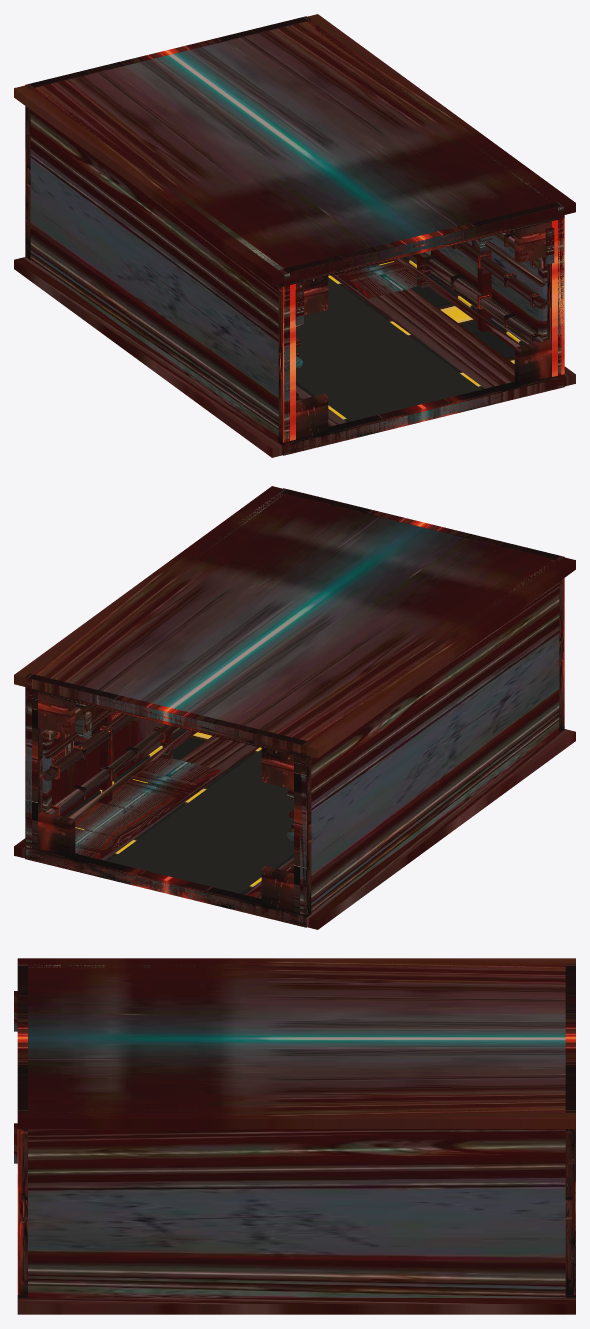
Rendered from hangar_ic_koridor_kara.glb.
3 renders of one model, top to bottom at view 1: azimuth 30°, elevation 25°; view 2: azimuth 150°, elevation 25°; view 3: azimuth 270°, elevation 25°, orthographic. The views are drawn at different scales.
Parts seen in each view (by area): view 1: LOD0_koridor; view 2: LOD0_koridor; view 3: LOD0_koridor.
Boxes of the visible parts, <box> form: LOD0_koridor: <box>14,14,575,457</box>; LOD0_koridor: <box>14,486,575,929</box>; LOD0_koridor: <box>14,958,575,1314</box>.
Bounding box in the file's own units: 10.2 × 5.84 × 15.1.
1 material, 1 textured.
